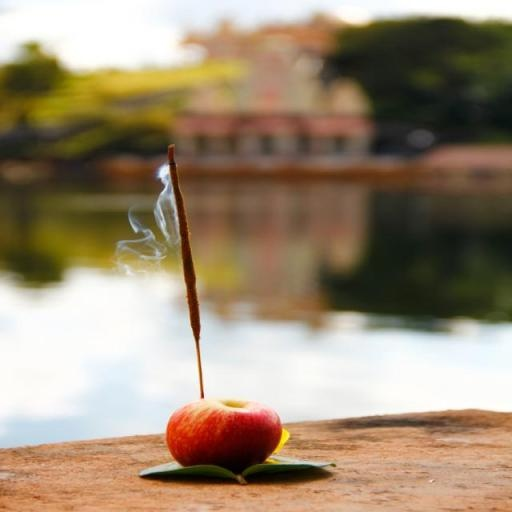fruit: (166, 399, 280, 473)
